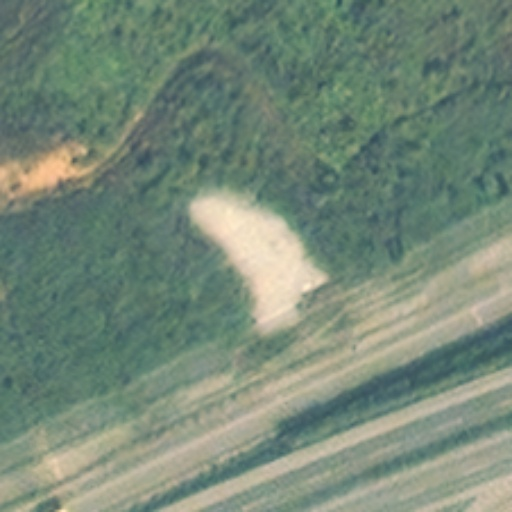landslide: (190, 189, 334, 327), (1, 143, 79, 201)
